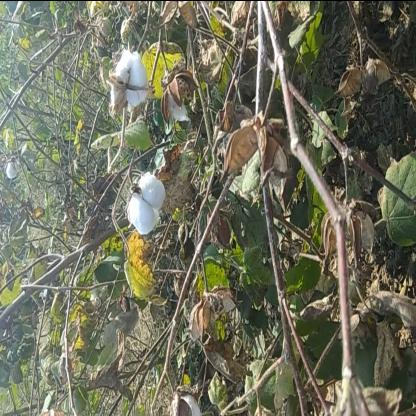cotton_ready: (107, 37, 164, 146), (122, 155, 180, 256)
